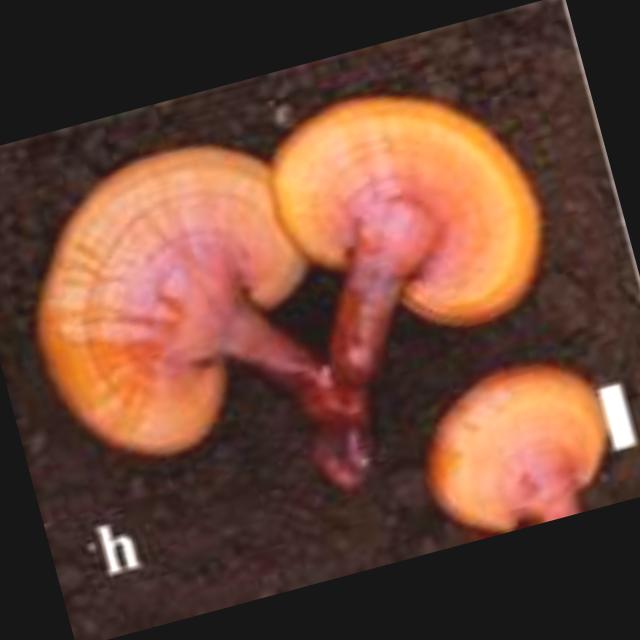ganoderma: (1, 113, 356, 487), (248, 53, 575, 373), (399, 340, 630, 550)
